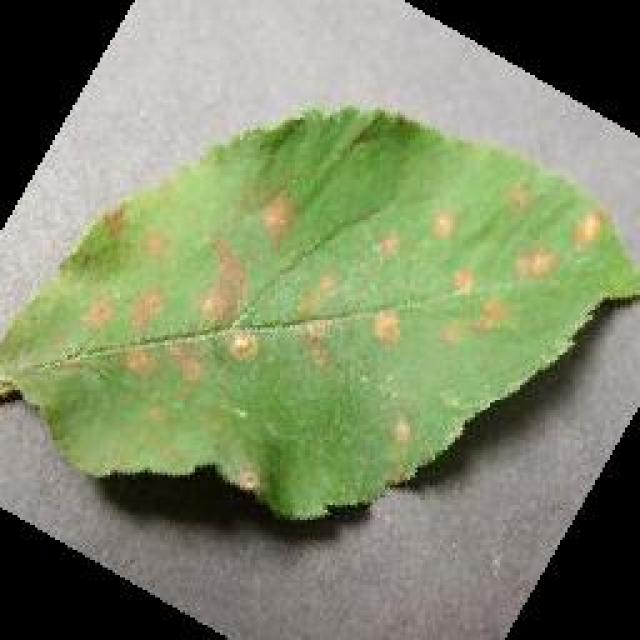apple healthy: (0, 100, 638, 522)
